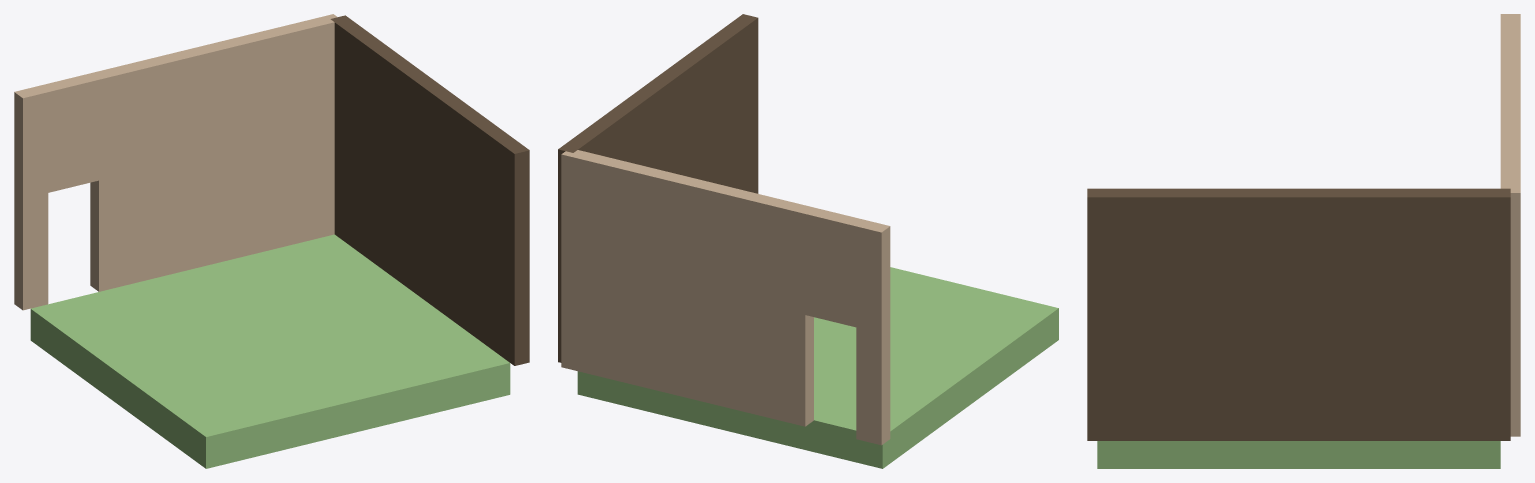
The model's file is structure B.fbx.
3 renders of one model, left to right at view 1: azimuth 30°, elevation 25°; view 2: azimuth 150°, elevation 25°; view 3: azimuth 270°, elevation 25°, orthographic. The views are drawn at different scales.
Visible parts, largest first — view 1: Ground, Wall_Back, Wall_Right; view 2: Wall_Back, Ground, Wall_Right; view 3: Wall_Right, Ground, Wall_Back.
Part boxes in pixels (x1=…): Ground: x1=30, y1=234, x2=510, y2=468; Wall_Back: x1=14, y1=14, x2=337, y2=310; Wall_Right: x1=330, y1=15, x2=529, y2=365; Wall_Back: x1=561, y1=150, x2=890, y2=445; Ground: x1=577, y1=267, x2=1058, y2=468; Wall_Right: x1=558, y1=14, x2=758, y2=362; Wall_Right: x1=1087, y1=188, x2=1510, y2=440; Ground: x1=1097, y1=441, x2=1500, y2=468; Wall_Back: x1=1500, y1=14, x2=1520, y2=436.
Size of the model in its own units: 645 by 460 by 645.
